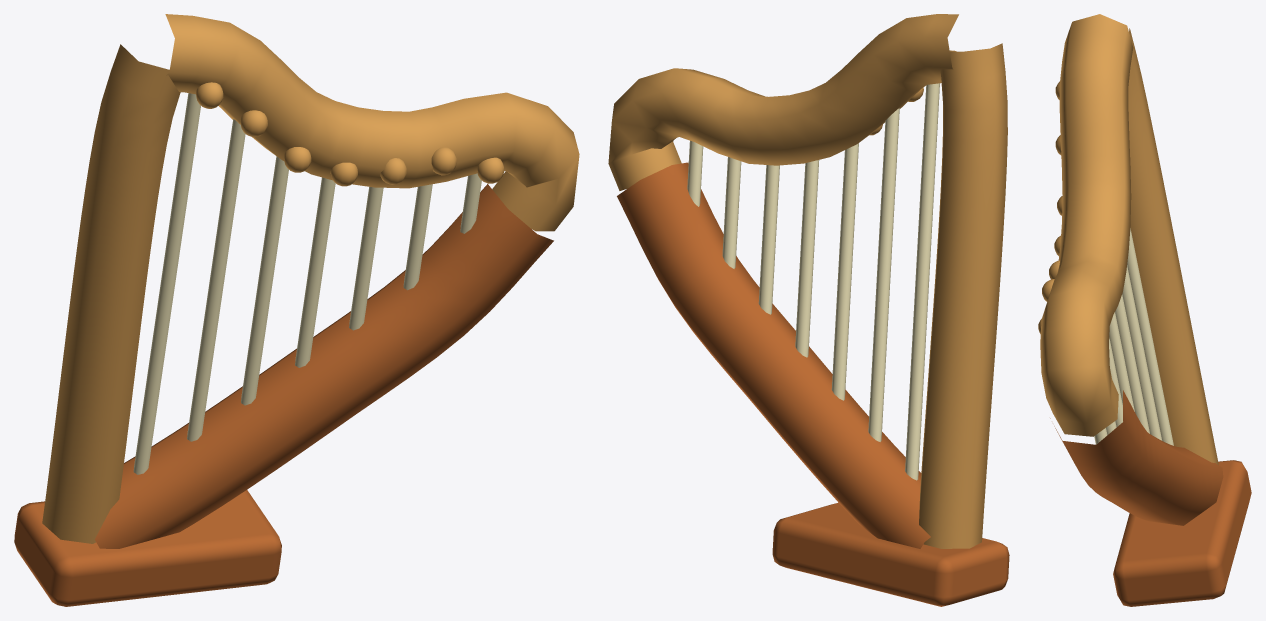
File: harp.glb
The picture shows the model from 3 angles, left to right: view 1: azimuth 30°, elevation 25°; view 2: azimuth 150°, elevation 25°; view 3: azimuth 270°, elevation 25°; orthographic projection. The views are drawn at different scales.
Visible parts, largest first — view 1: harp; view 2: harp; view 3: harp.
Boxes of the visible parts, left/top/right/bottom form: harp: left=14, top=14, right=579, bottom=606; harp: left=608, top=14, right=1009, bottom=606; harp: left=1038, top=14, right=1251, bottom=606.
Bounding box in the file's own units: 0.7941 × 0.9671 × 0.3453.
